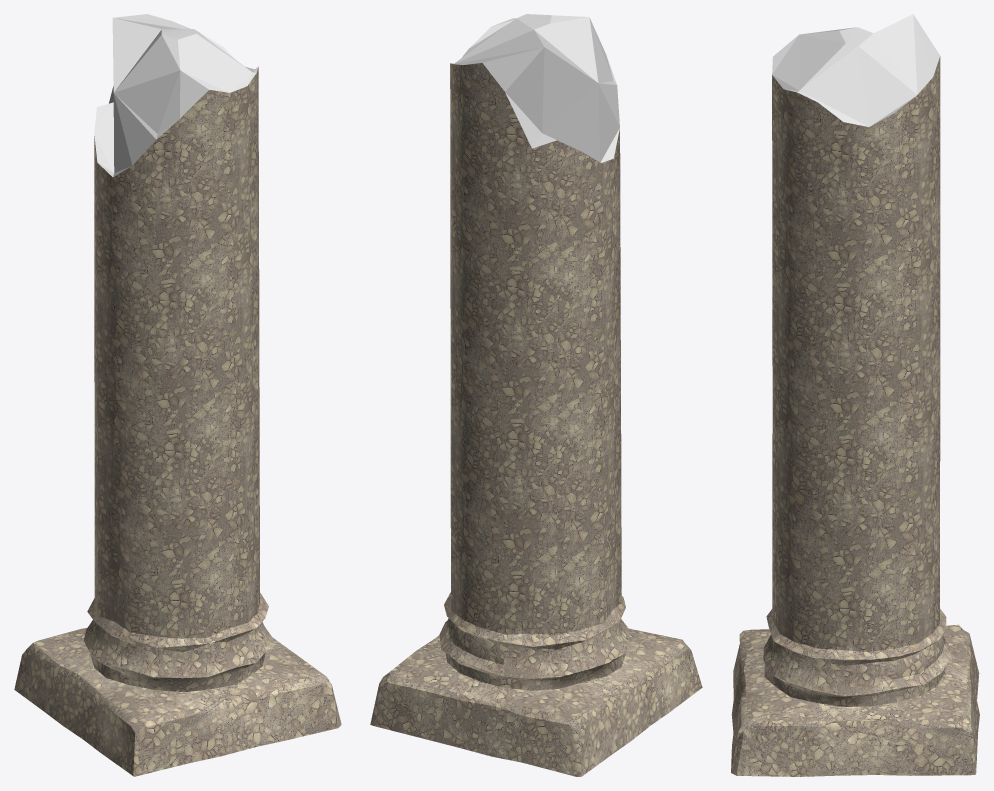
File: SM_Ruins_Pillar_Broken_01.fbx
3 renders of one model, left to right at view 1: azimuth 30°, elevation 25°; view 2: azimuth 150°, elevation 25°; view 3: azimuth 270°, elevation 25°, orthographic.
Parts seen in each view (by area): view 1: Pillar_Ruins_Broken_1; view 2: Pillar_Ruins_Broken_1; view 3: Pillar_Ruins_Broken_1.
Part boxes in pixels (x1=…): Pillar_Ruins_Broken_1: x1=14, y1=14, x2=341, y2=776; Pillar_Ruins_Broken_1: x1=370, y1=14, x2=702, y2=776; Pillar_Ruins_Broken_1: x1=731, y1=14, x2=979, y2=776.
Bounding box in the file's own units: 147 × 448 × 146.
